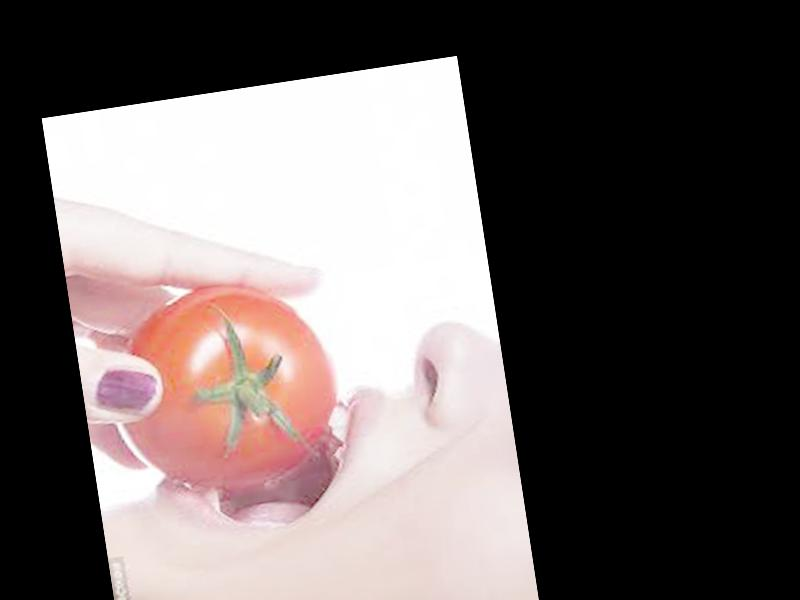Tomato: (98, 269, 349, 503)
